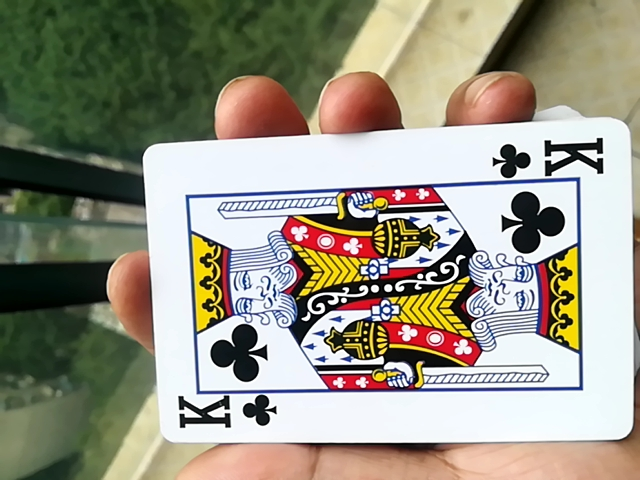mh k: (133, 120, 631, 461)
